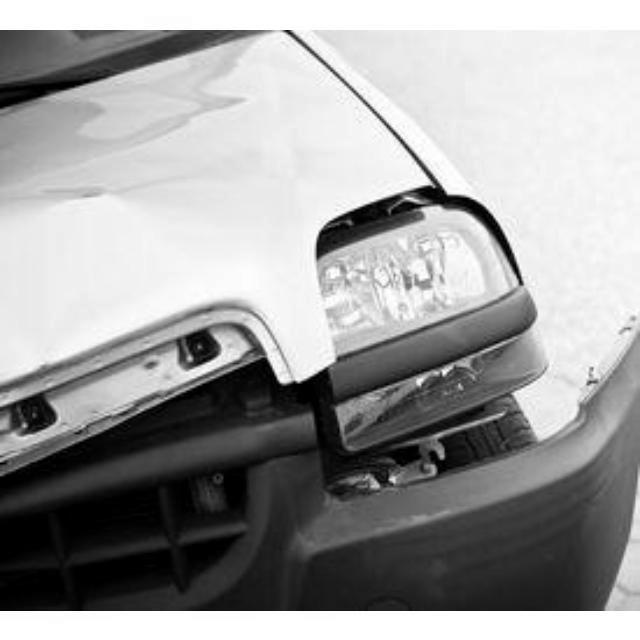front-bumper-dent: (1, 312, 638, 609)
